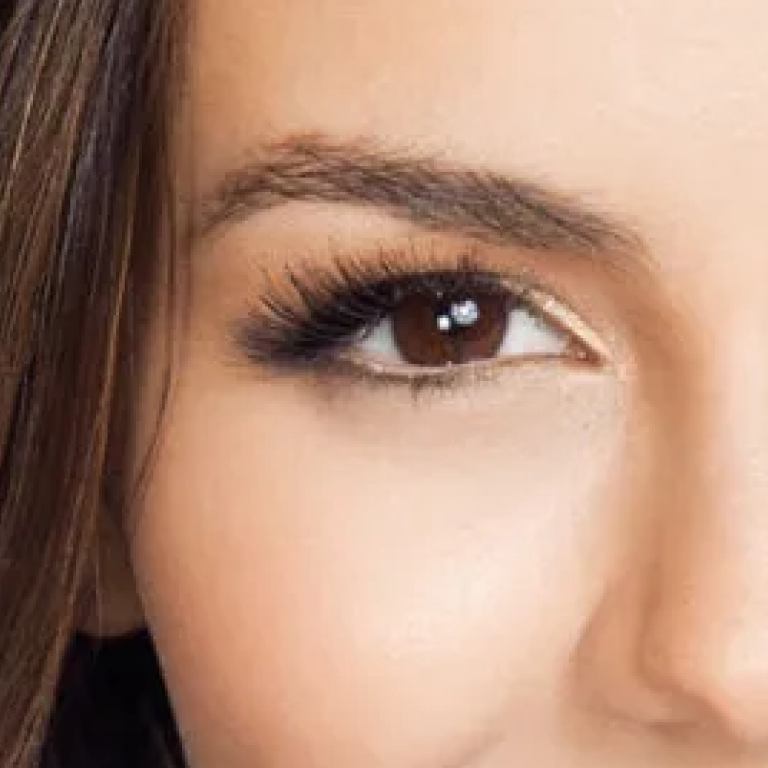iris: (393, 283, 508, 366)
pupil: (434, 297, 482, 334)
sclera: (504, 307, 567, 352), (352, 318, 403, 361)
